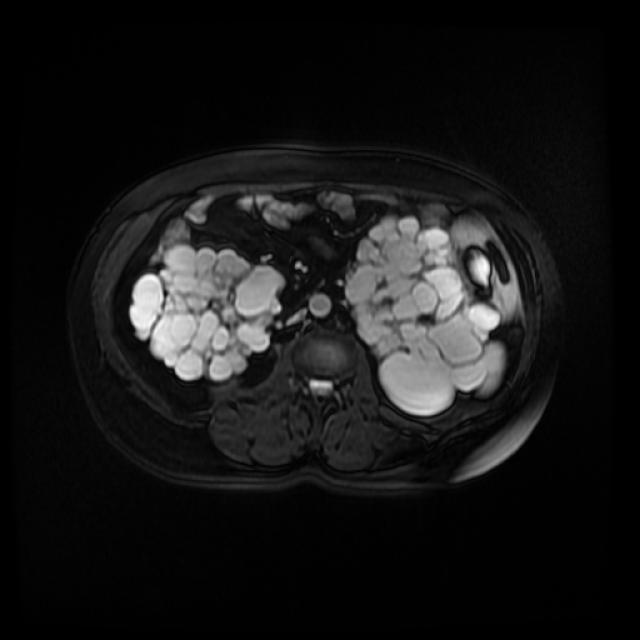sag: (128, 242, 287, 383)
sol: (345, 212, 507, 418)
